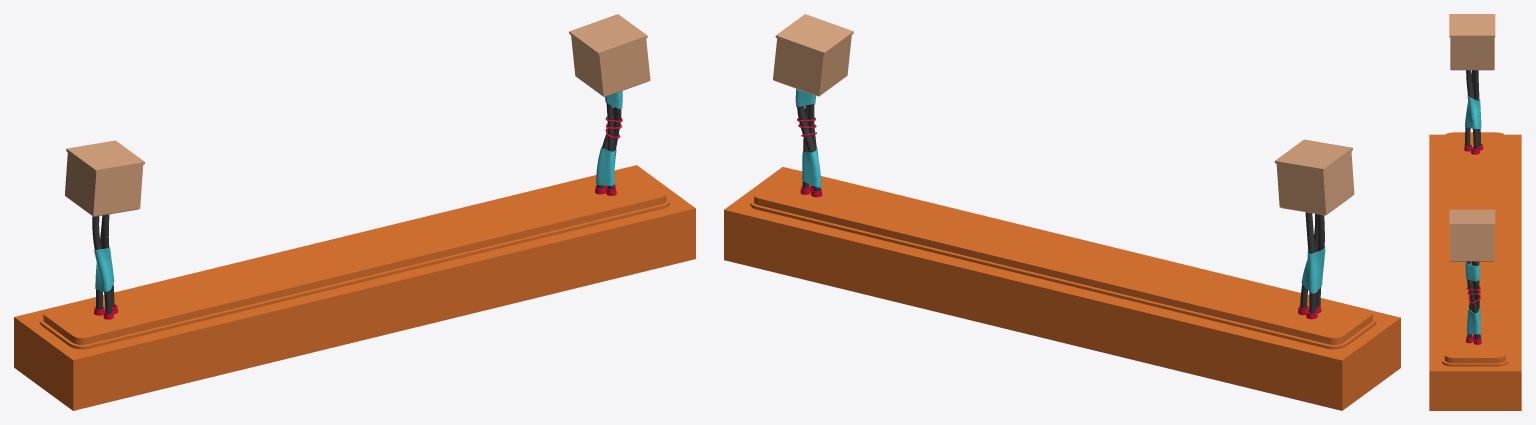
The model's file is uploads_files_4733460_raw+mesh_low.fbx.
3 views of the same model, side by side, from view 1: azimuth 30°, elevation 25°; view 2: azimuth 150°, elevation 25°; view 3: azimuth 270°, elevation 25° (orthographic). The views are drawn at different scales.
Visible parts, largest first — view 1: tube-2_low; view 2: tube-2_low; view 3: tube-2_low.
Part boxes in pixels (x1=…): tube-2_low: x1=14, y1=14, x2=695, y2=410; tube-2_low: x1=724, y1=14, x2=1400, y2=410; tube-2_low: x1=1429, y1=14, x2=1521, y2=410.
Size of the model in its own units: 469 by 160 by 77.16.
